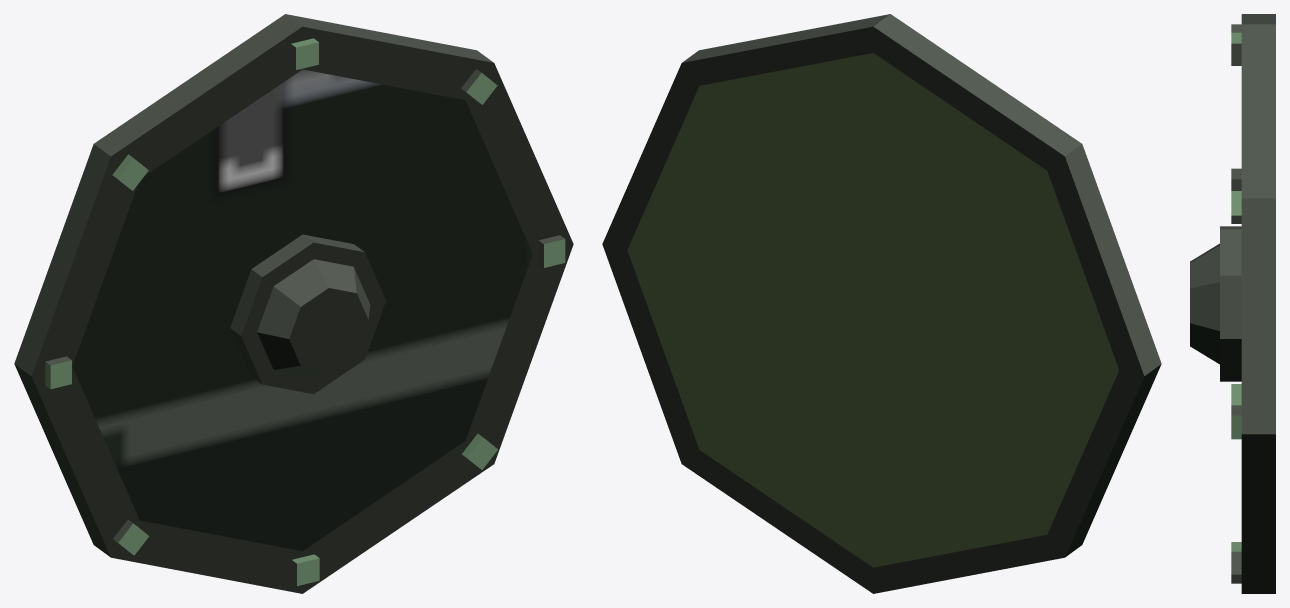
Rendered from SF_Wep_RoundShield_Symbol_02.glb.
3 views of the same model, side by side, from view 1: azimuth 30°, elevation 25°; view 2: azimuth 150°, elevation 25°; view 3: azimuth 270°, elevation 25° (orthographic).
Visible parts, largest first — view 1: SF_Wep_RoundShield_Symbol_02; view 2: SF_Wep_RoundShield_Symbol_02; view 3: SF_Wep_RoundShield_Symbol_02.
Part boxes in pixels (bbox=[...]): SF_Wep_RoundShield_Symbol_02: bbox=[14, 14, 573, 593]; SF_Wep_RoundShield_Symbol_02: bbox=[602, 14, 1161, 593]; SF_Wep_RoundShield_Symbol_02: bbox=[1190, 14, 1275, 593].
Size of the model in its own units: 0.014 by 0.014 by 0.00195.
1 material, 1 textured.
